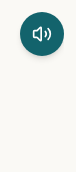
Test case: SoundAudioButton — playing on demand › marks itself as playing while the clip runs
The width and height of the screenshot is (76, 172).
Click the button.
click(42, 34)  # box [20, 12, 64, 56]
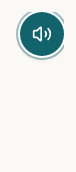
Check: the button has class "ring-2", box [20, 12, 64, 56]
